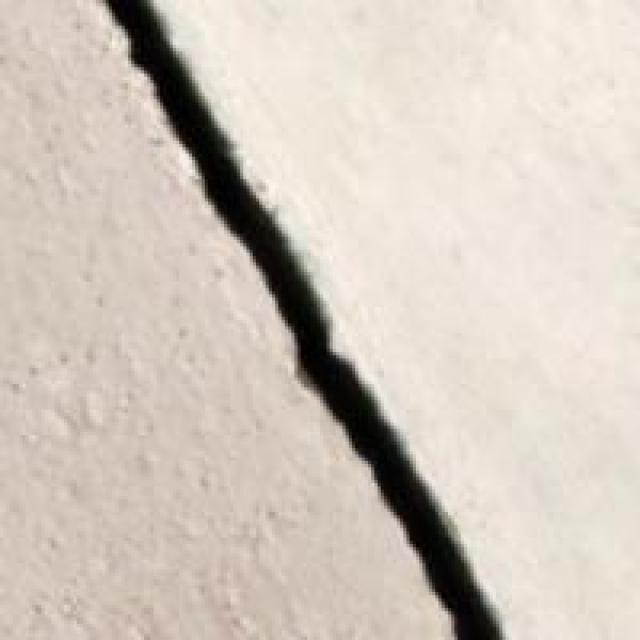Crack: (70, 0, 502, 637)
